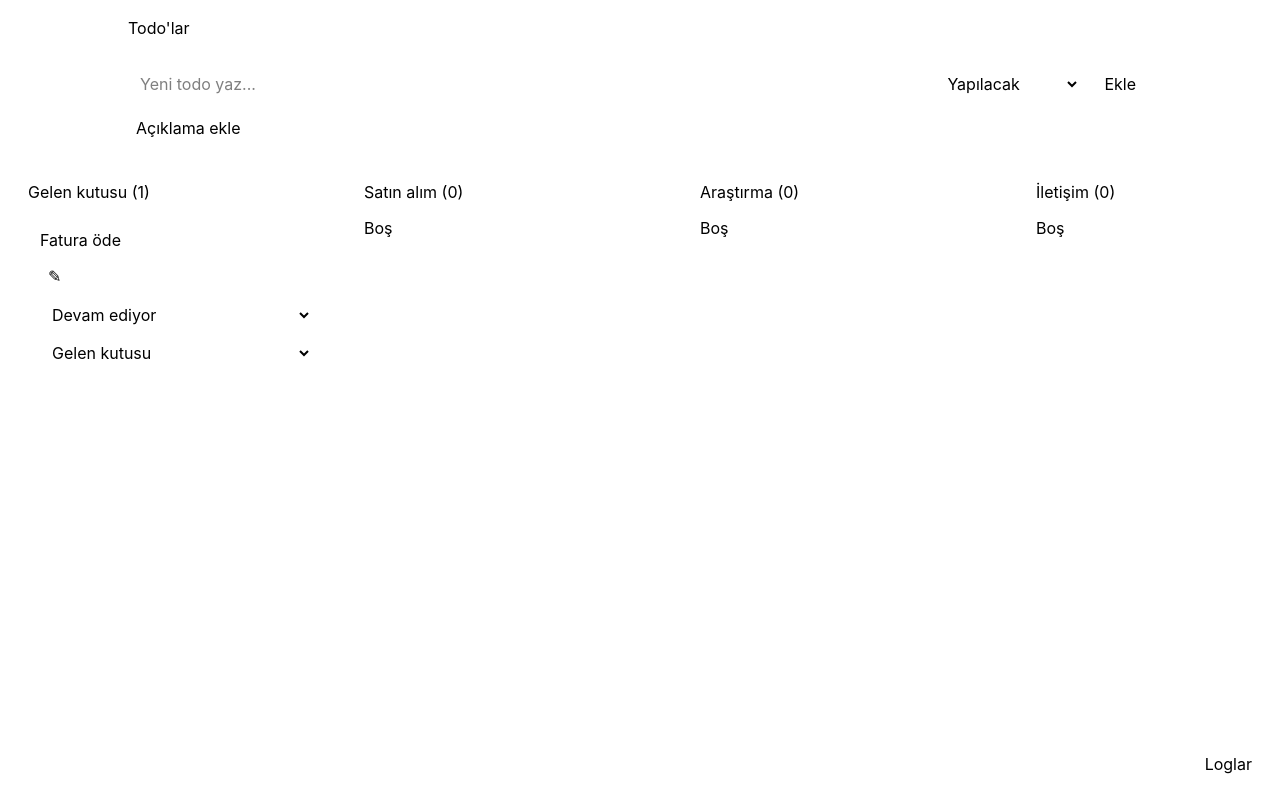
Test: card status › shows an error and keeps the old status when the change fails
Step 1. Select "Tamamlandı" in the dropdown named "Fatura öde için durum" → (176, 315), box [40,300,312,330]
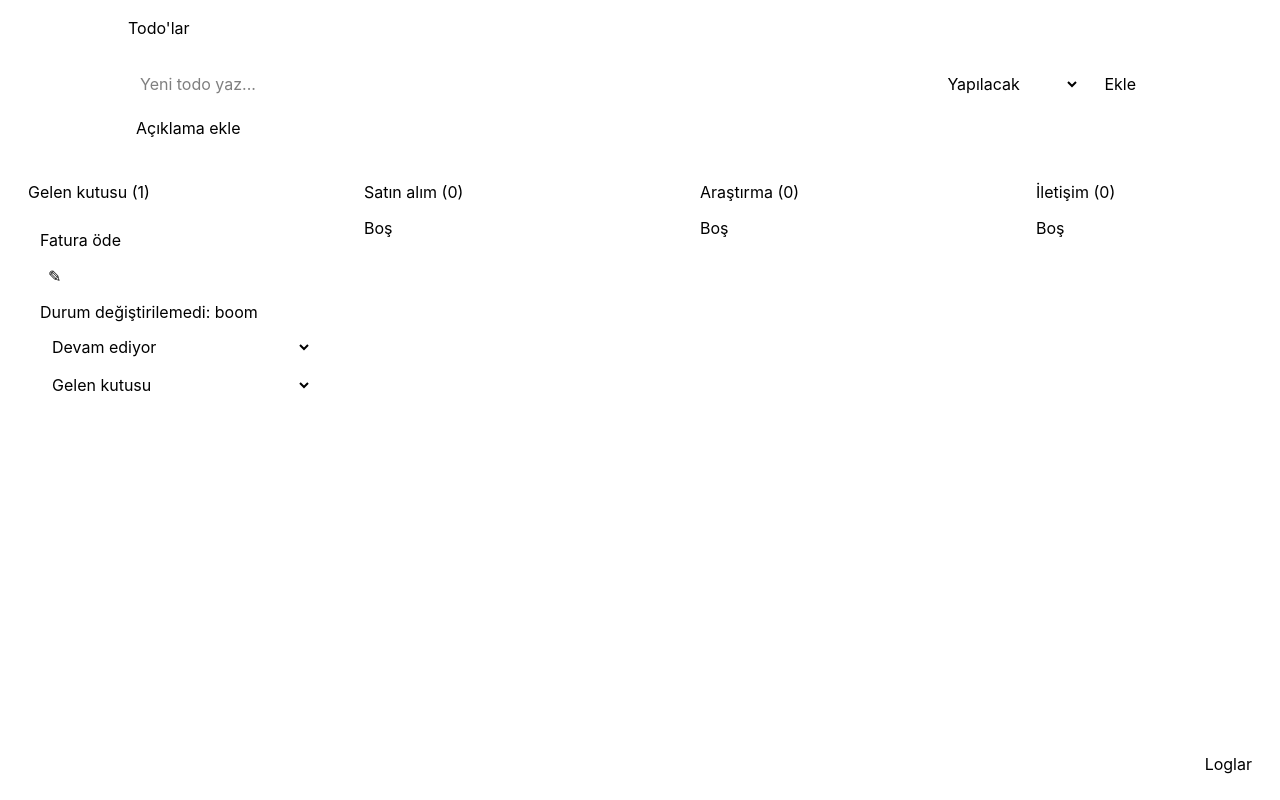
Expected: the dropdown named "Fatura öde için durum" is enabled, [40,332,312,362]
Expected: the message reads "Durum değiştirilemedi: boom", [40,302,258,322]
